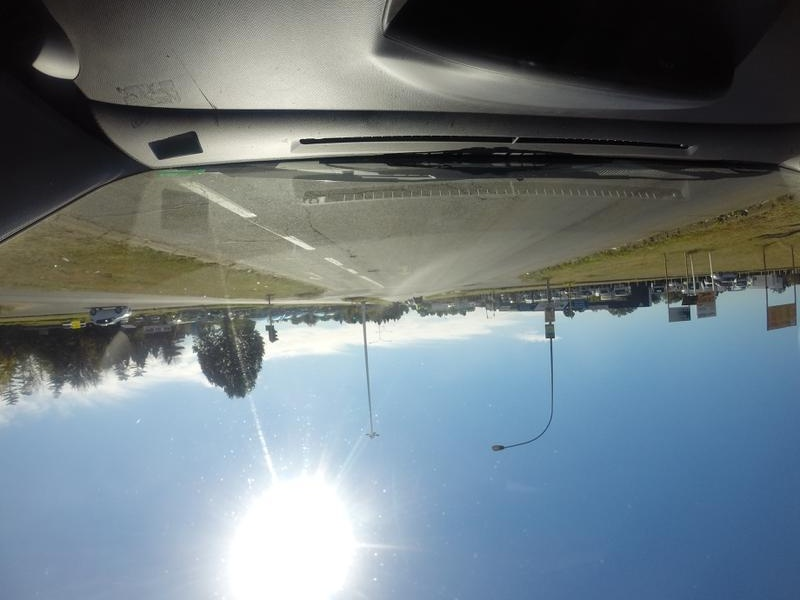pothole: (350, 262, 379, 276)
